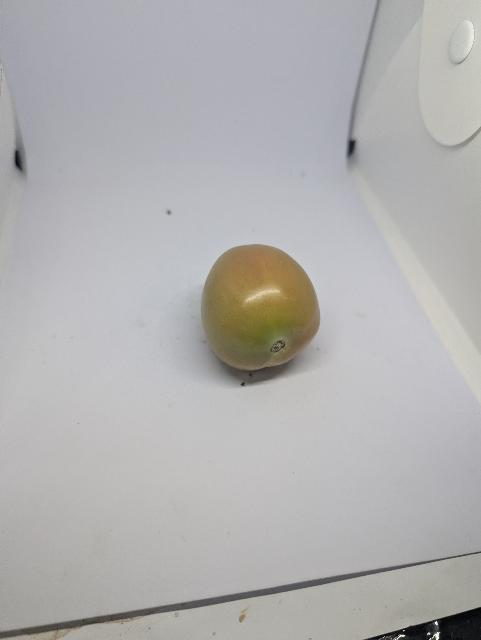breaker: (202, 244, 320, 371)
